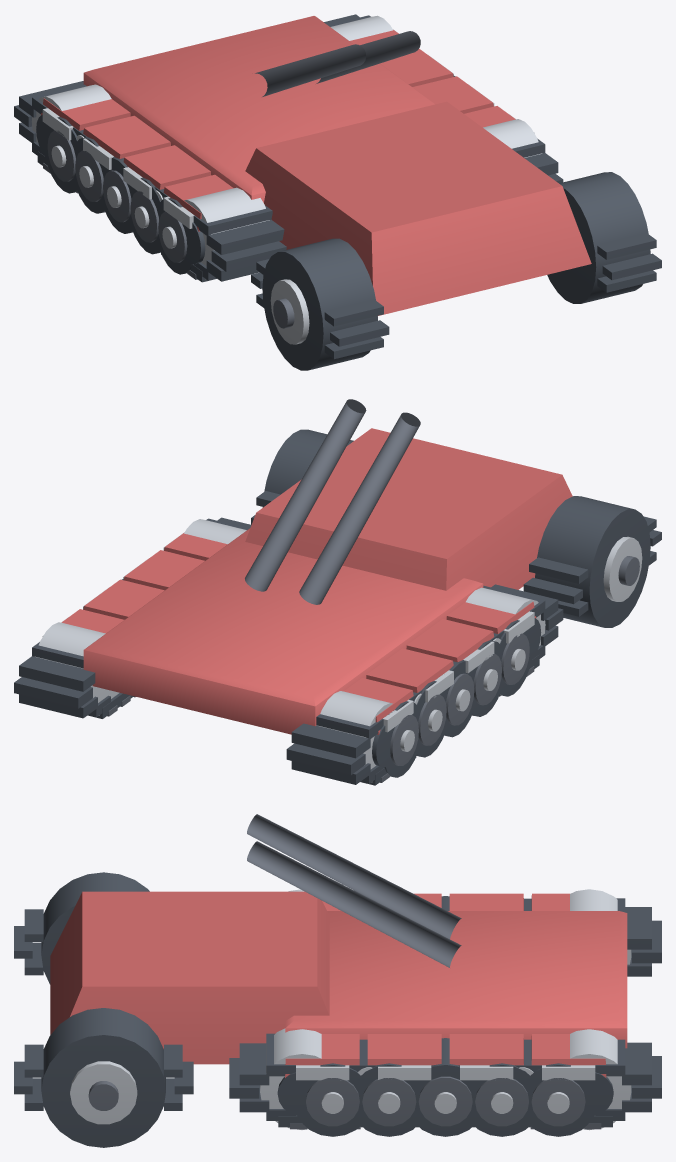
Rendered from htk.glb.
3 views of the same model, one above another, from view 1: azimuth 30°, elevation 25°; view 2: azimuth 150°, elevation 25°; view 3: azimuth 270°, elevation 25° (orthographic).
Visible parts, largest first — view 1: Hull, Turret, Barrel; view 2: Hull, Turret, Barrel; view 3: Hull, Turret, Barrel.
Boxes of the visible parts, left/top/right/bottom form: Hull: left=14, top=14, right=661, bottom=370; Turret: left=255, top=31, right=446, bottom=232; Barrel: left=372, top=102, right=561, bottom=232; Hull: left=14, top=429, right=661, bottom=785; Turret: left=245, top=399, right=561, bottom=604; Barrel: left=256, top=428, right=561, bottom=512; Hull: left=14, top=872, right=661, bottom=1147; Turret: left=83, top=814, right=461, bottom=985; Barrel: left=82, top=892, right=316, bottom=986.
Size of the model in its own units: 1.86 by 1.18 by 2.91.
